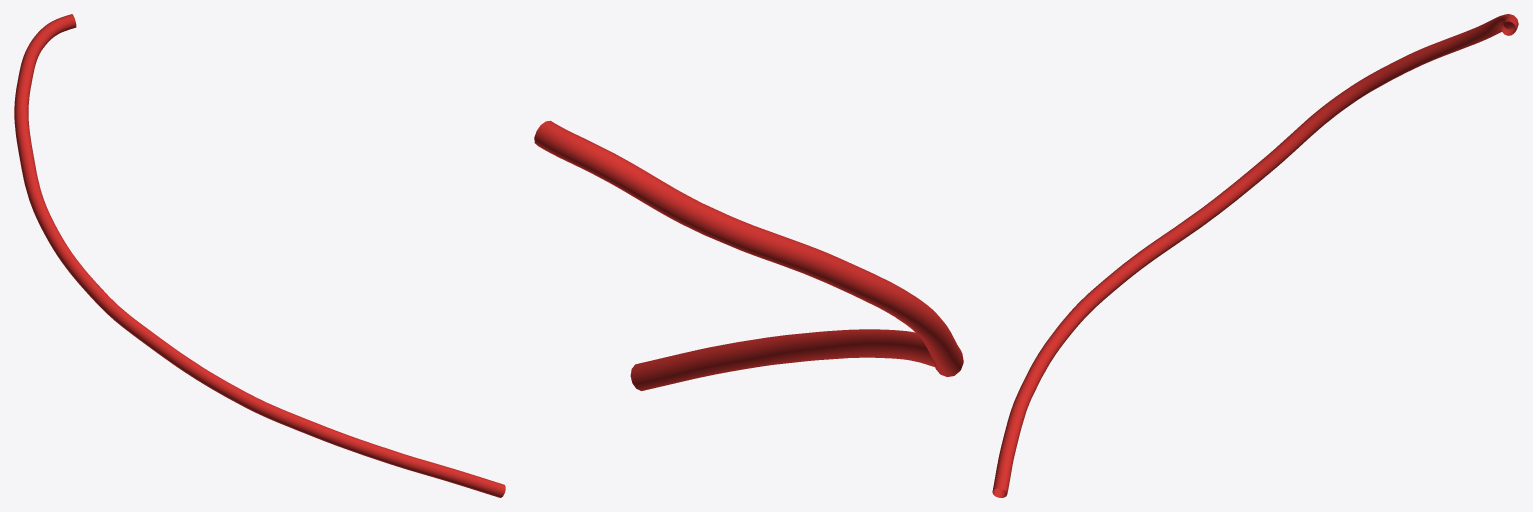
The model's file is circulatorio-first-posterior-intercostal-artery-r.glb.
The picture shows the model from 3 angles, left to right: view 1: azimuth 30°, elevation 25°; view 2: azimuth 150°, elevation 25°; view 3: azimuth 270°, elevation 25°; orthographic projection. The views are drawn at different scales.
Parts seen in each view (by area): view 1: First posterior intercostal artery.r; view 2: First posterior intercostal artery.r; view 3: First posterior intercostal artery.r.
Boxes of the visible parts, bbox=[...] form: First posterior intercostal artery.r: bbox=[14, 14, 505, 497]; First posterior intercostal artery.r: bbox=[534, 120, 963, 390]; First posterior intercostal artery.r: bbox=[992, 14, 1518, 497].
Bounding box in the file's own units: 0.0493 × 0.0549 × 0.0692.
